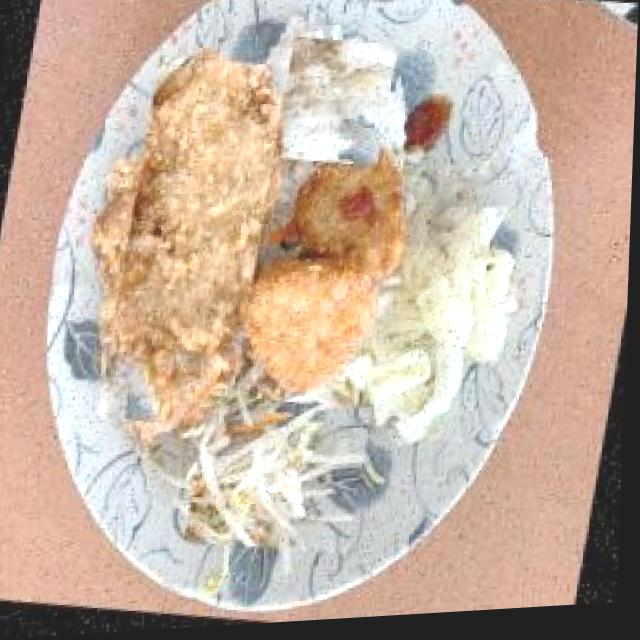chinese_cabbage: (367, 202, 523, 437)
fried_chicken: (100, 53, 294, 440)
mung_bean_sprouts: (190, 387, 373, 570)
rice: (272, 38, 403, 172)
triangle_hash_brown: (243, 156, 413, 403)
